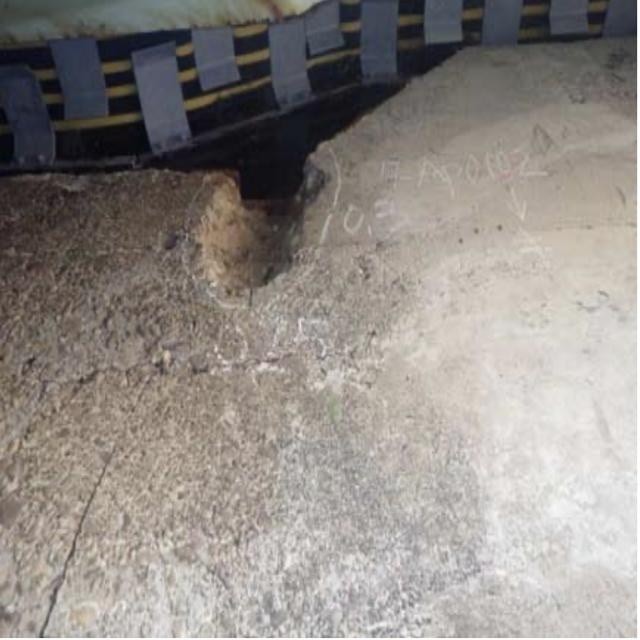spalling: (171, 107, 353, 303)
